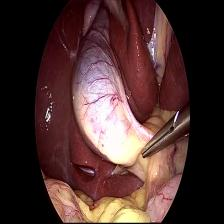Grasper: (141, 105, 184, 164)
